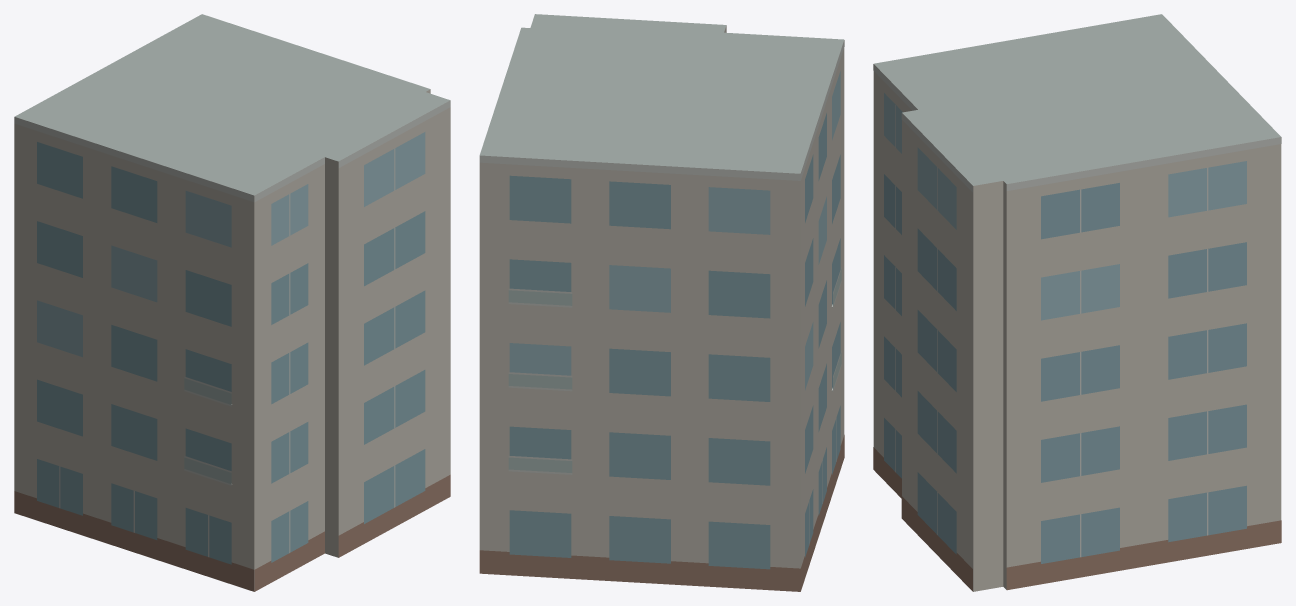
Rendered from survey-upis-32988350.glb.
3 renders of one model, left to right at view 1: azimuth 30°, elevation 25°; view 2: azimuth 150°, elevation 25°; view 3: azimuth 270°, elevation 25°, orthographic. The views are drawn at different scales.
Visible parts, largest first — view 1: survey-upis-32988350.tmp; view 2: survey-upis-32988350.tmp; view 3: survey-upis-32988350.tmp.
Part boxes in pixels (x1=…): survey-upis-32988350.tmp: x1=14, y1=14, x2=450, y2=591; survey-upis-32988350.tmp: x1=479, y1=14, x2=844, y2=591; survey-upis-32988350.tmp: x1=873, y1=14, x2=1281, y2=591.
Bounding box in the file's own units: 12.91 × 14.2 × 12.94.
